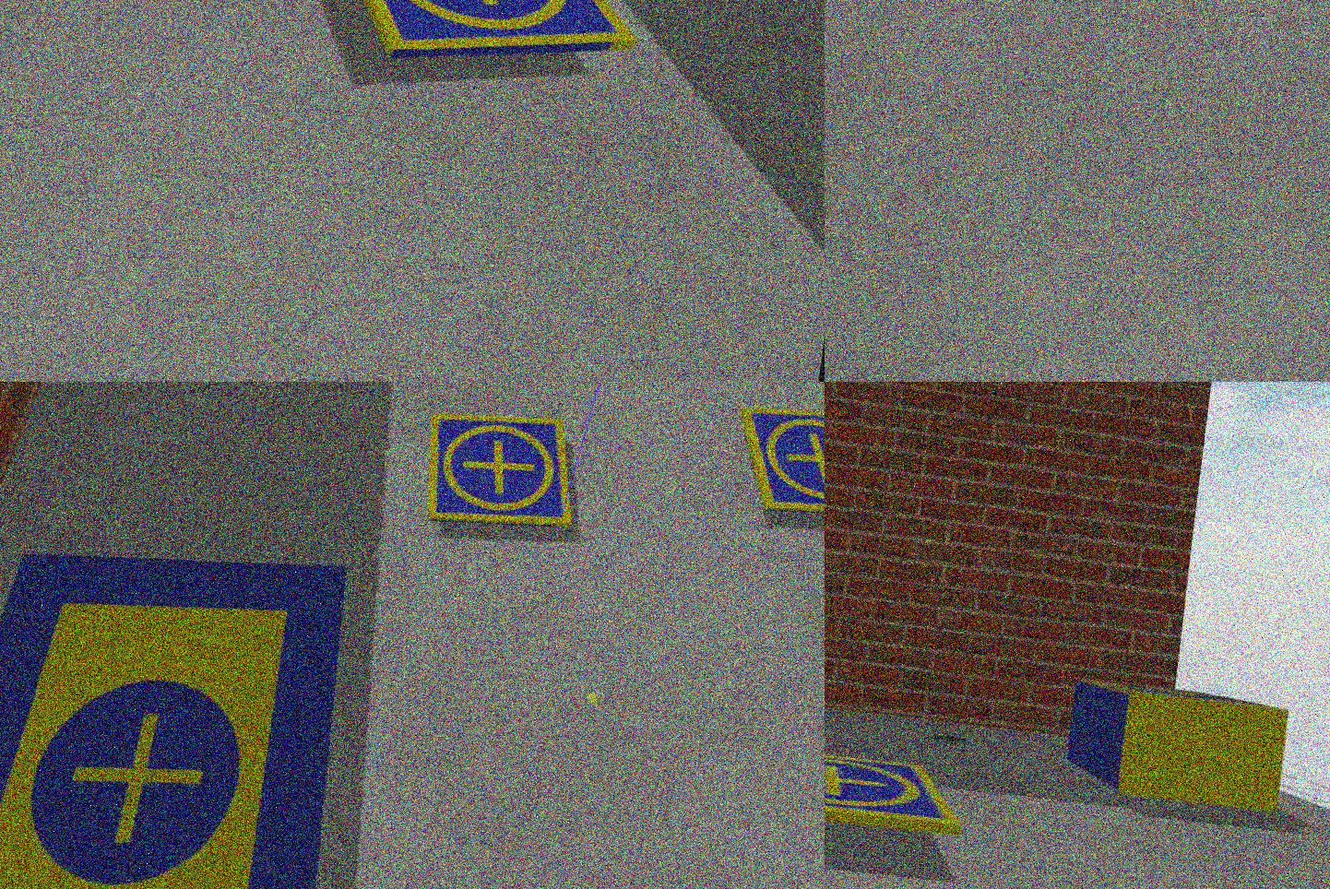large_base: (1, 512, 368, 889)
small_base: (307, 1, 652, 92), (415, 406, 588, 545), (825, 741, 968, 841), (733, 402, 825, 535)
